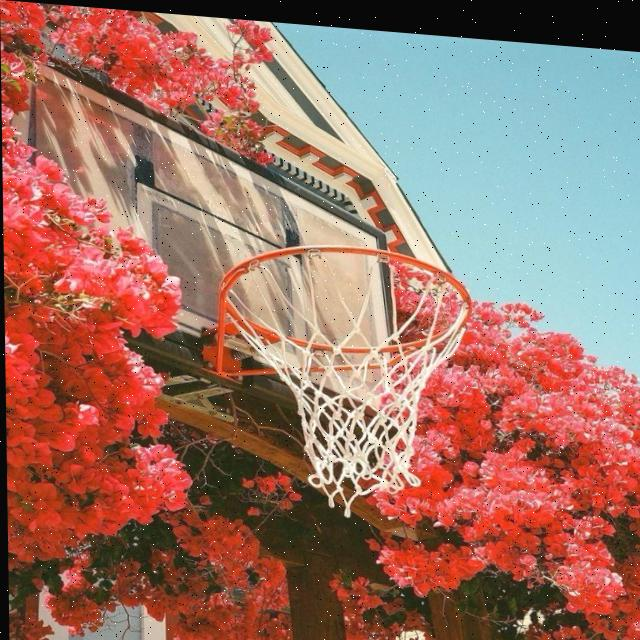hoop: (188, 238, 509, 515)
